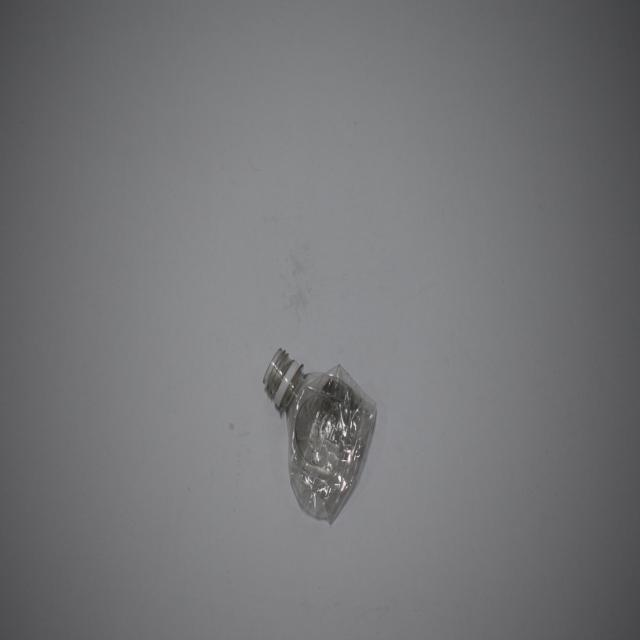bottle: (262, 314, 386, 536)
